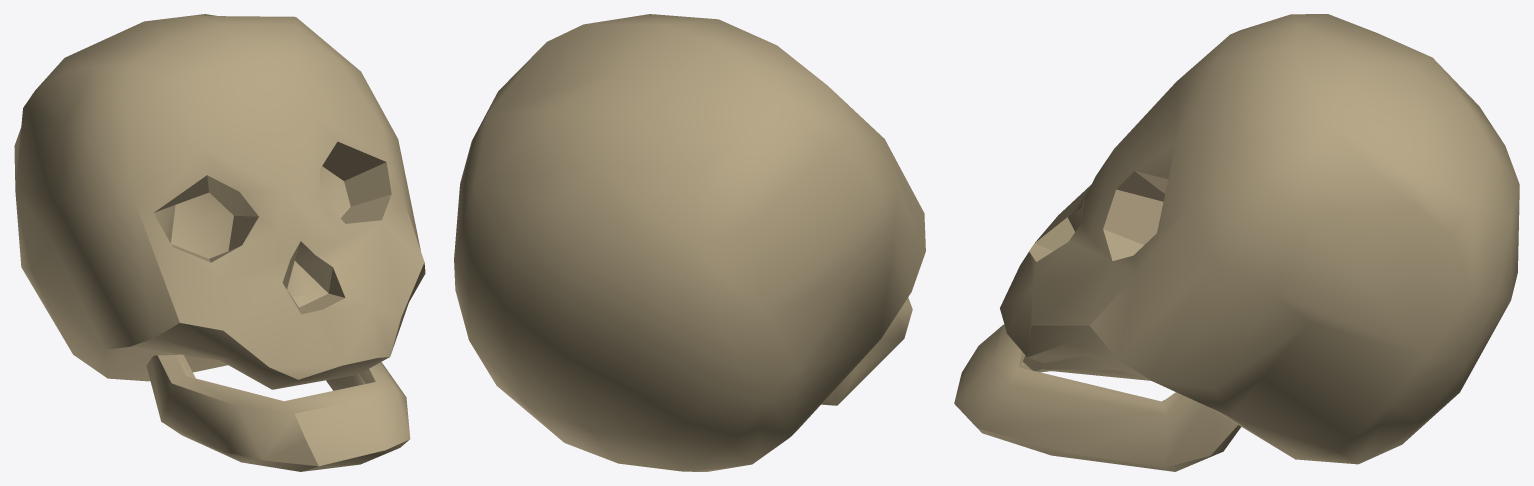
File: Skull.glb
3 renders of one model, left to right at view 1: azimuth 30°, elevation 25°; view 2: azimuth 150°, elevation 25°; view 3: azimuth 270°, elevation 25°, orthographic. The views are drawn at different scales.
Visible parts, largest first — view 1: Skull; view 2: Skull; view 3: Skull.
Part boxes in pixels (x1=…): Skull: x1=14, y1=14, x2=425, y2=471; Skull: x1=454, y1=14, x2=925, y2=471; Skull: x1=954, y1=14, x2=1519, y2=471.
Bounding box in the file's own units: 0.4436 × 0.4606 × 0.5966.
